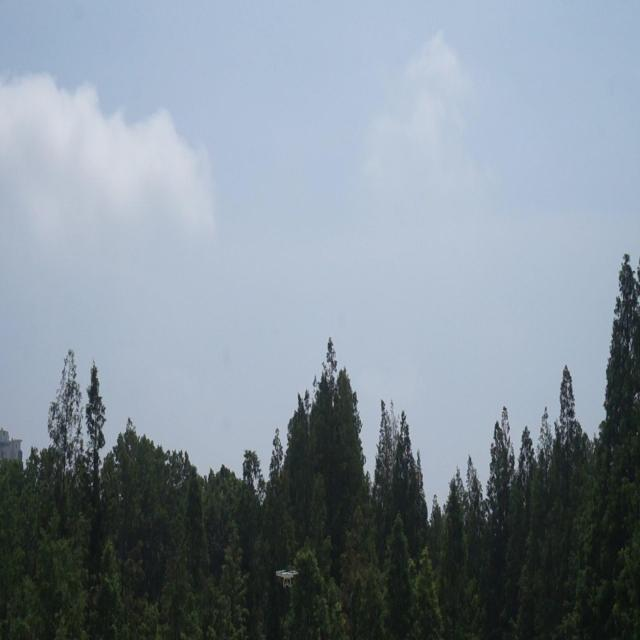drone: (274, 565, 300, 588)
